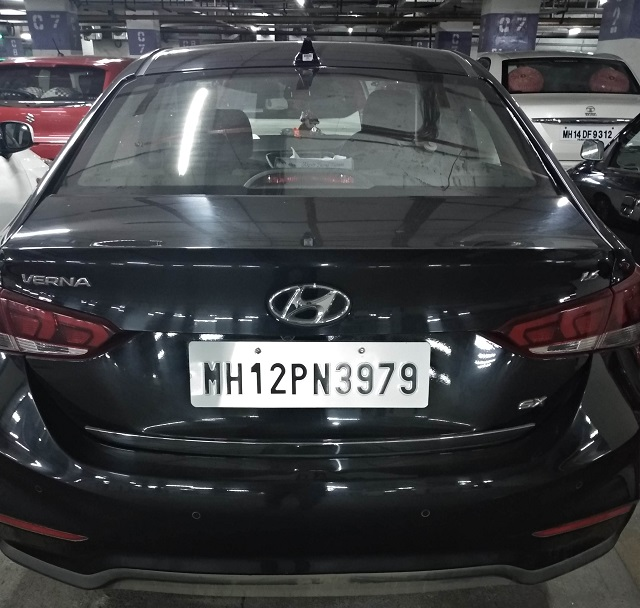licenseplate: (186, 338, 431, 412)
